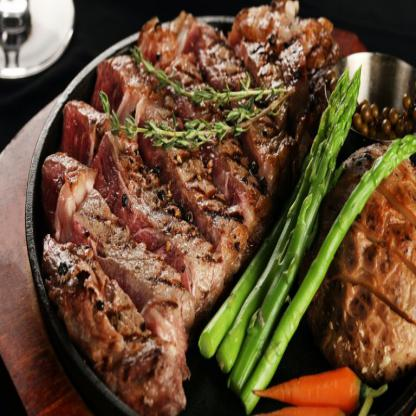Carne: (56, 102, 223, 310), (111, 57, 256, 257), (43, 235, 194, 415), (154, 22, 284, 183), (52, 160, 176, 324), (220, 0, 336, 99)
